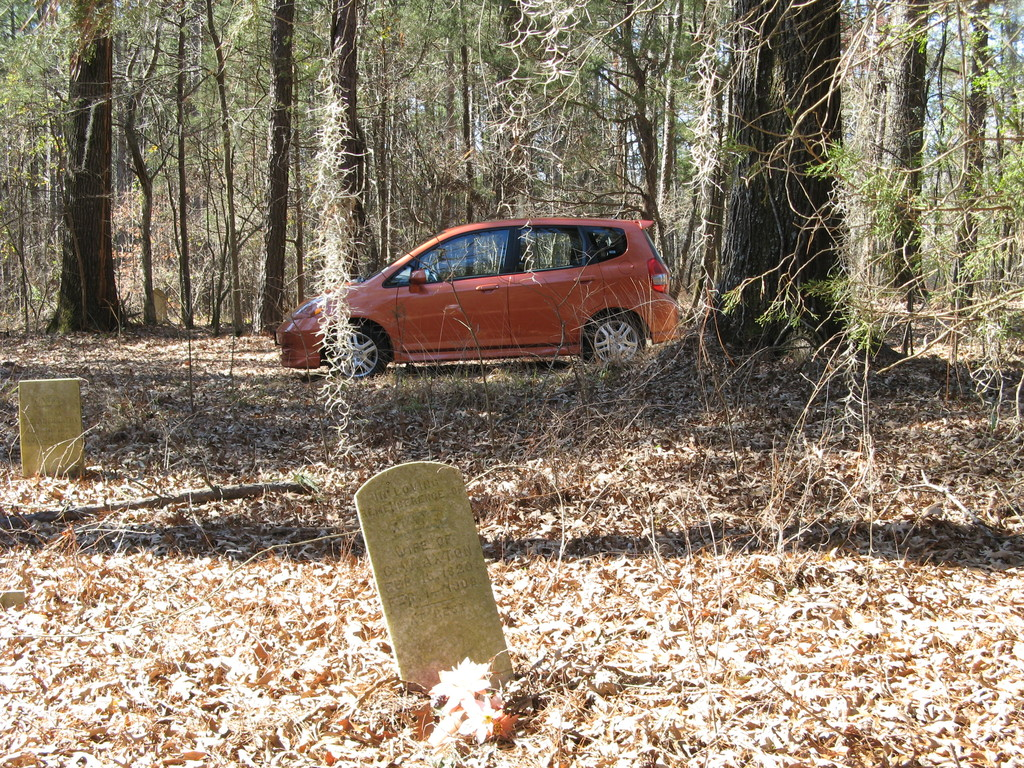Car: (275, 220, 678, 373)
